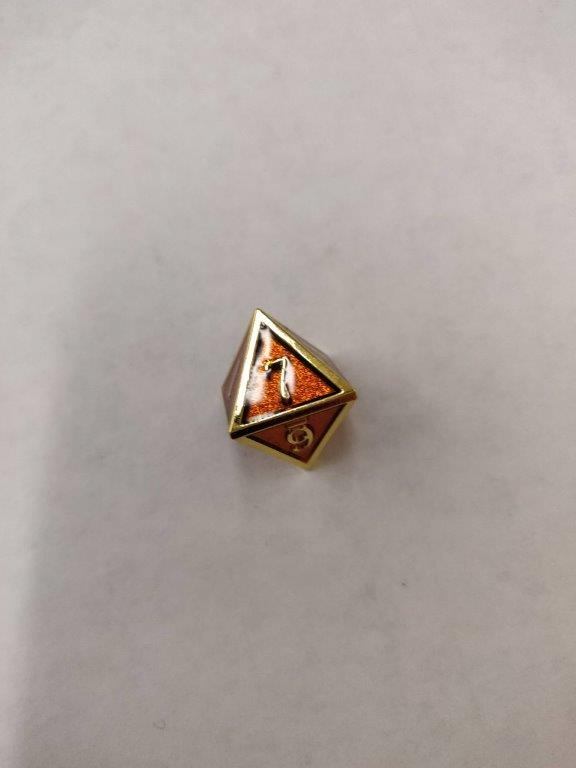d8-7: (218, 307, 358, 475)
